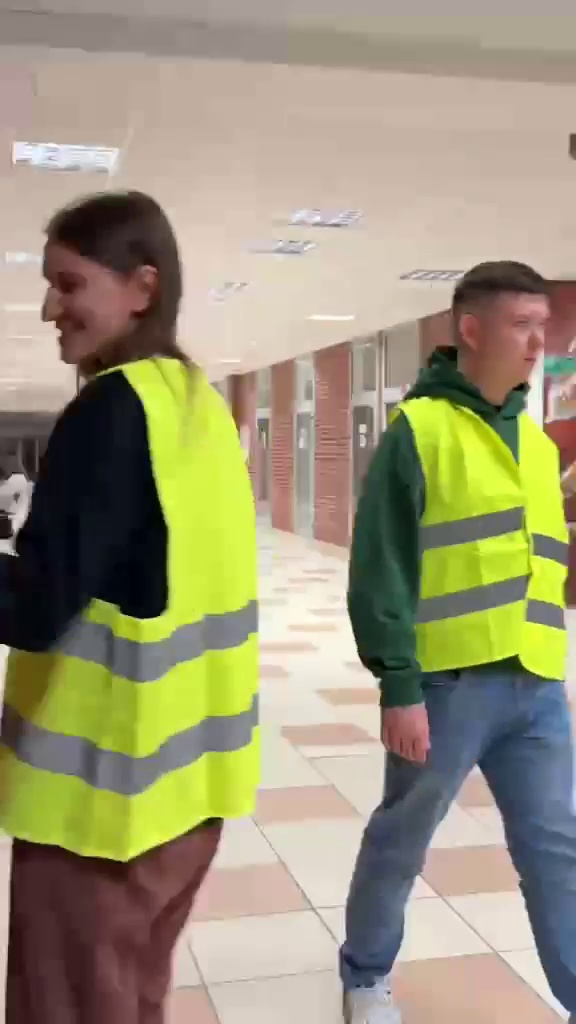vest: (0, 203, 258, 992), (353, 262, 576, 992)
